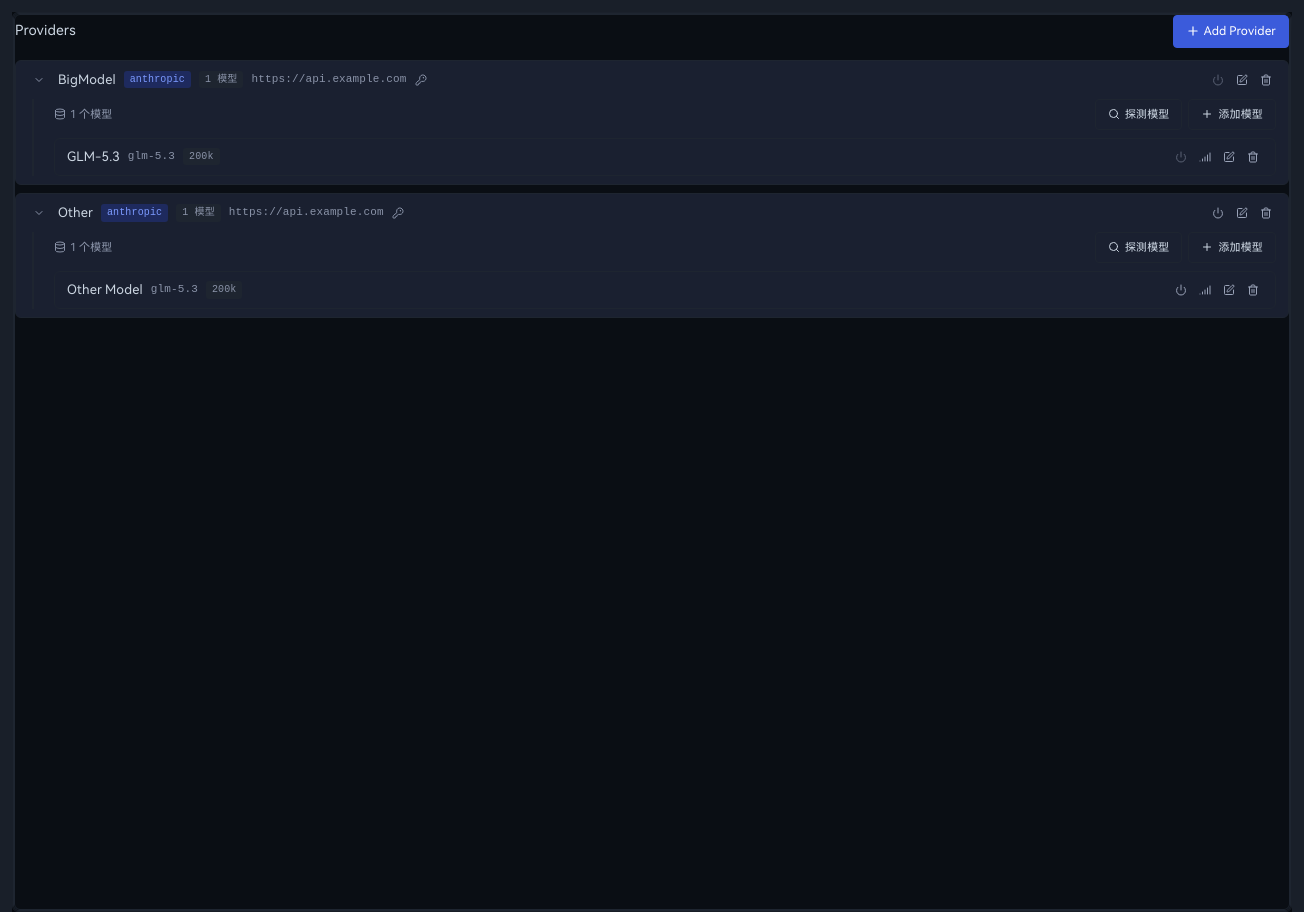
ProvidersTab — 卡片内嵌模型管理(2026-10-19 合并) › chevron 折叠该供应商的模型面板(aria-expanded 同步)
The width and height of the screenshot is (1304, 912).
Click the button with test id "providers-expand-p-1" at (39, 80), box [28,69,50,91]
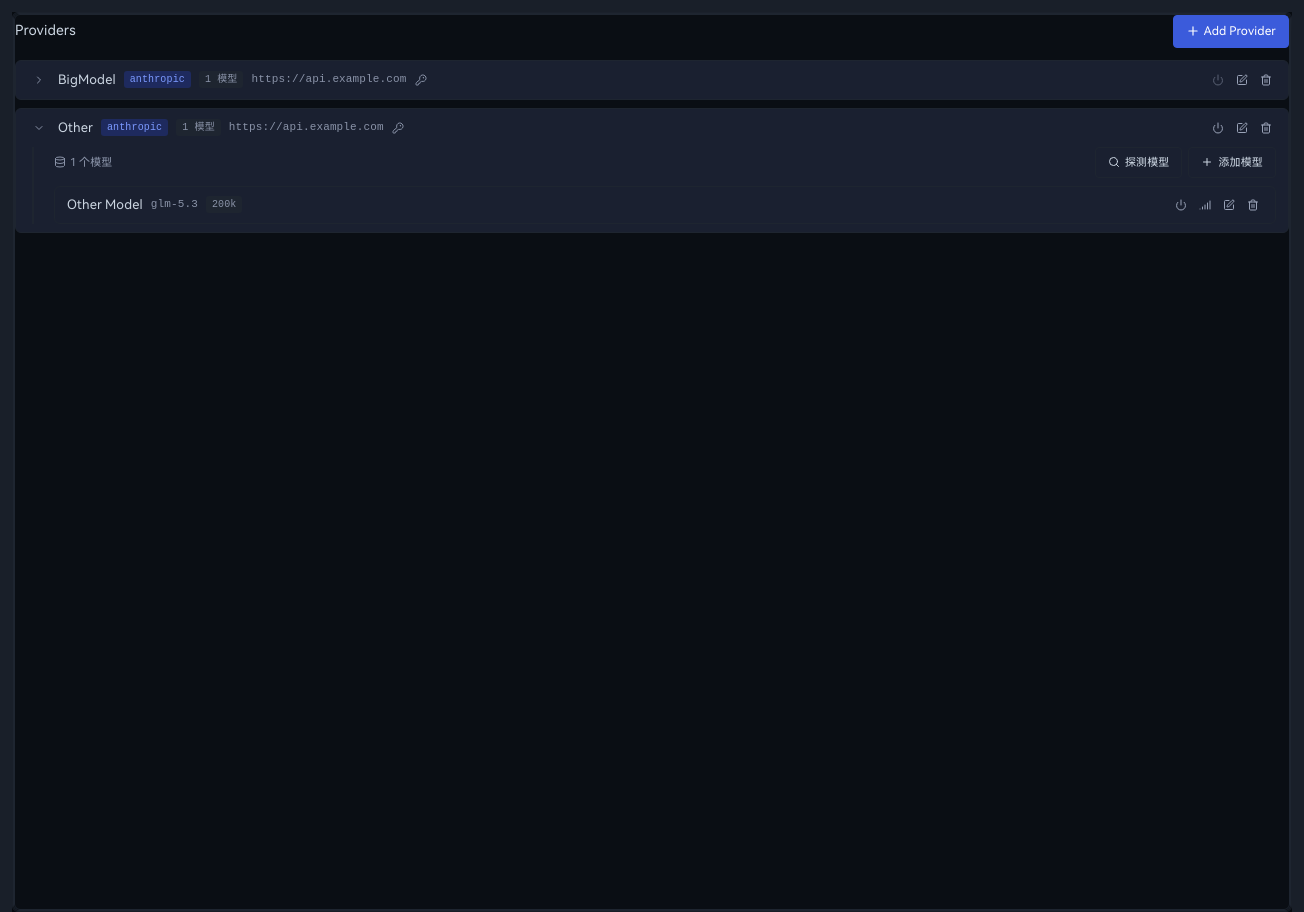
Check: the button with test id "providers-expand-p-1" is collapsed
Click the button with test id "providers-expand-p-1" at (39, 80), box [28,69,50,91]
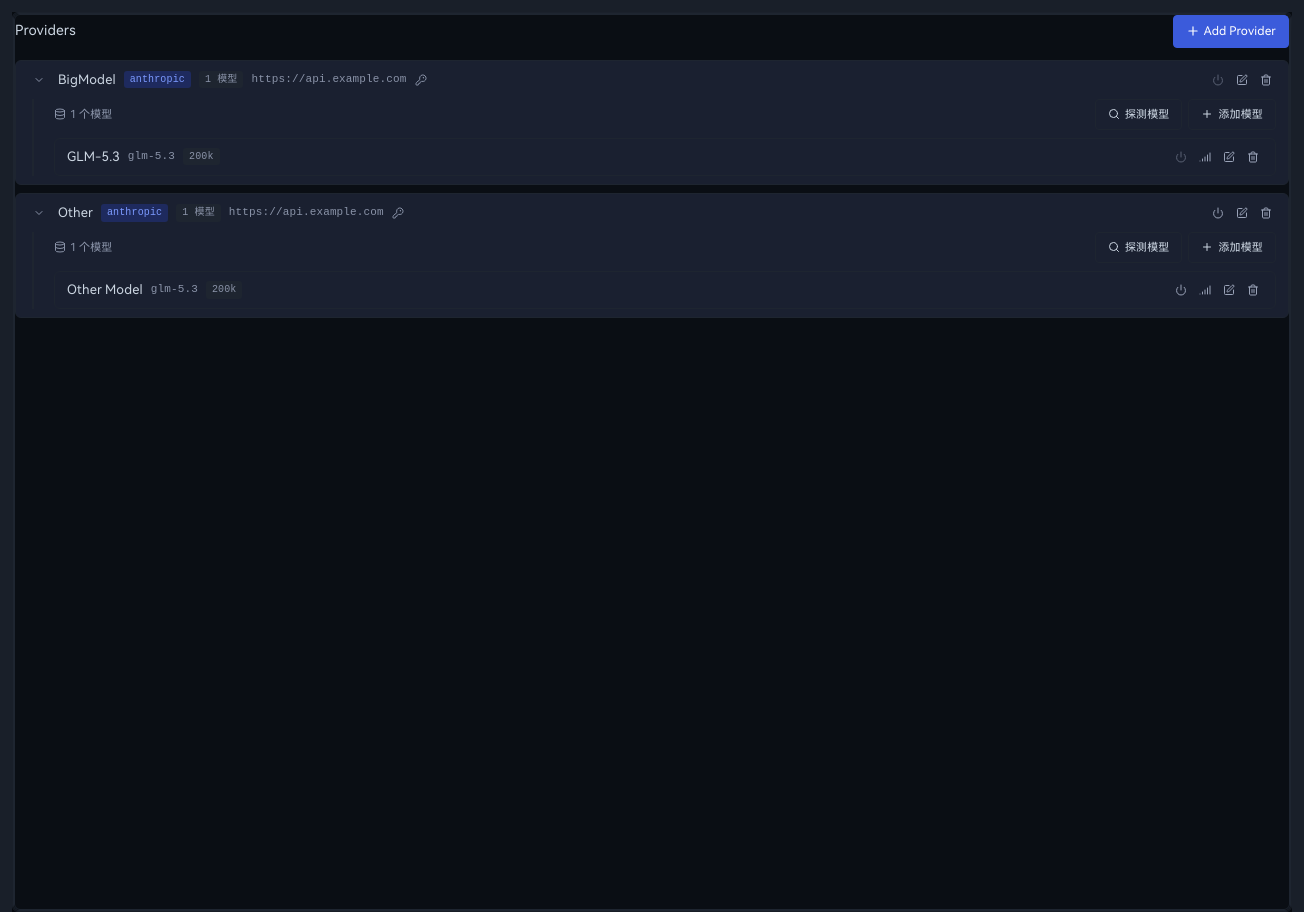
Check: the button with test id "providers-expand-p-1" is expanded, box [28,69,50,91]
